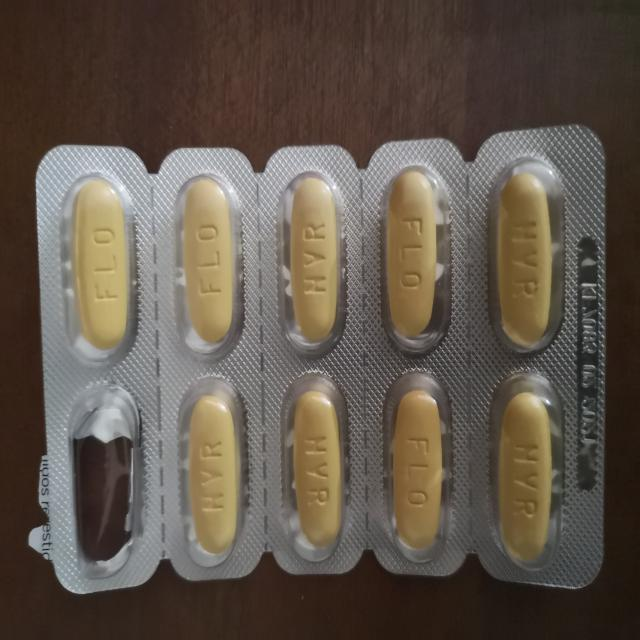Empty: (57, 384, 142, 582)
Pill: (479, 156, 574, 355), (55, 169, 141, 369), (485, 368, 566, 575), (163, 171, 250, 357), (375, 164, 455, 359), (277, 368, 355, 563), (173, 370, 249, 567), (375, 368, 452, 558), (276, 164, 345, 359)
